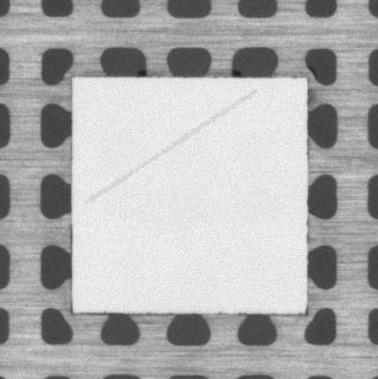DIE_CRACK: (86, 91, 255, 204)
